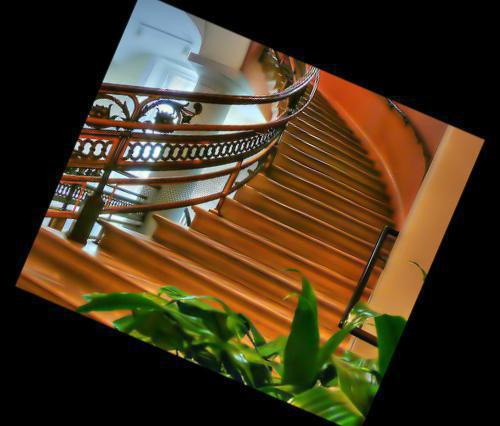Escaleras: (25, 0, 447, 407)
